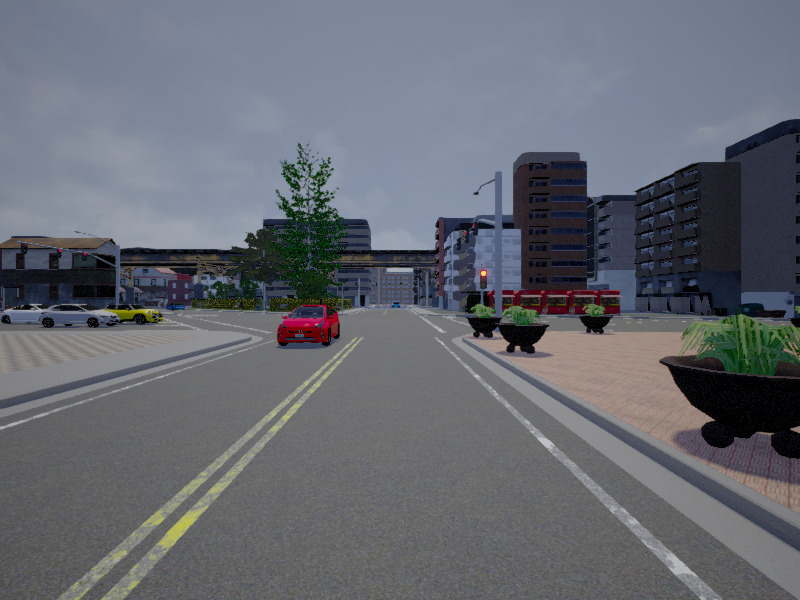Benign: (274, 303, 343, 346), (38, 303, 119, 328), (103, 301, 162, 324), (1, 302, 53, 324)
